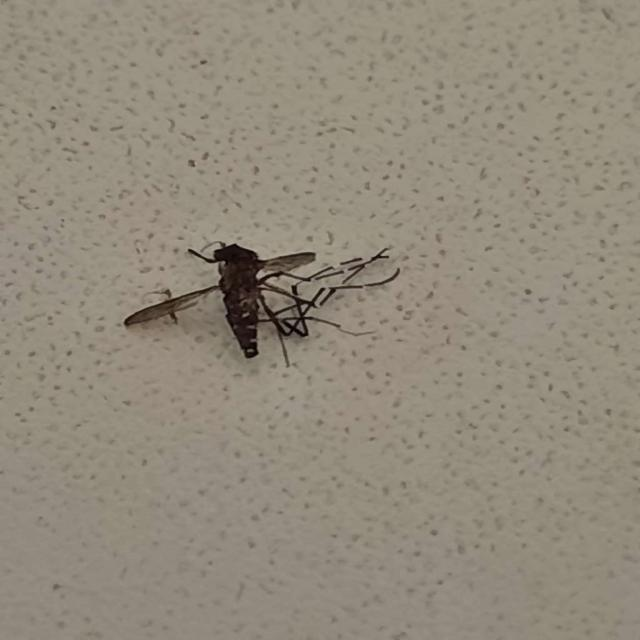albopictus: (121, 226, 401, 372)
